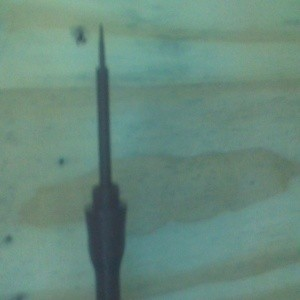solder: (84, 22, 127, 300)
